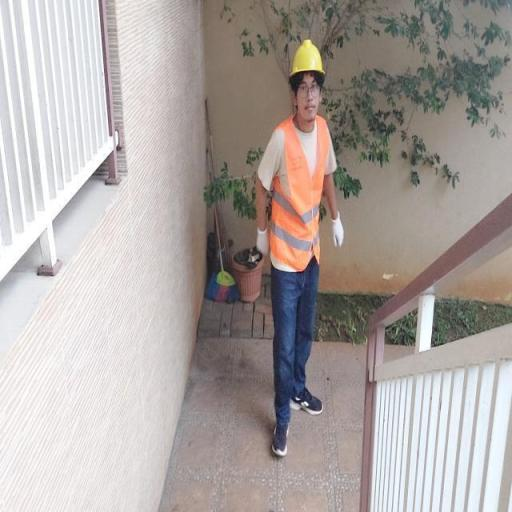Person: (215, 24, 359, 466)
boots: (250, 395, 300, 464), (288, 367, 338, 433)
gloves: (242, 220, 284, 270), (316, 206, 354, 251)
goggles: (284, 82, 336, 98)
helmet: (283, 34, 334, 84)
vest: (255, 114, 352, 268)
